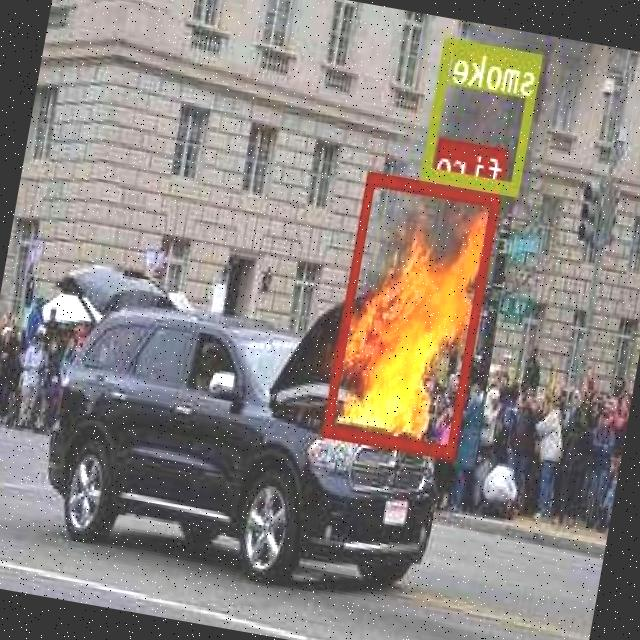fire: (323, 170, 502, 456)
smoke: (422, 36, 544, 194)
